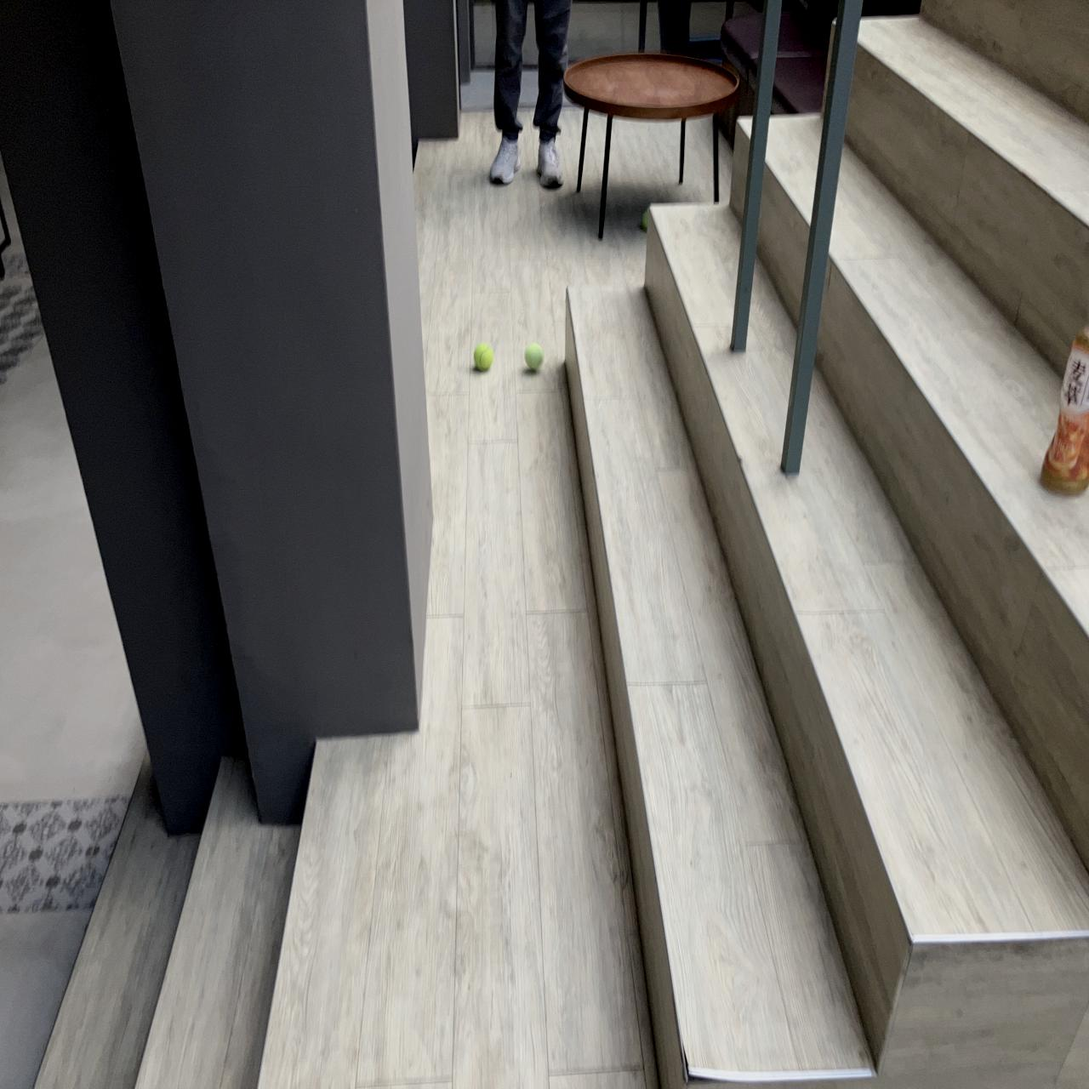person: (533, 0, 571, 187)
plastic-bottle: (1041, 325, 1088, 493)
tennisball: (474, 343, 493, 371), (525, 344, 544, 371)
